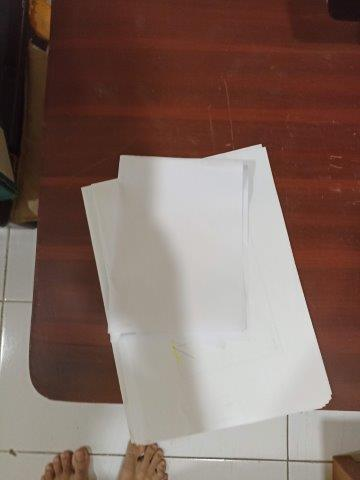kertas: (81, 144, 333, 444)
